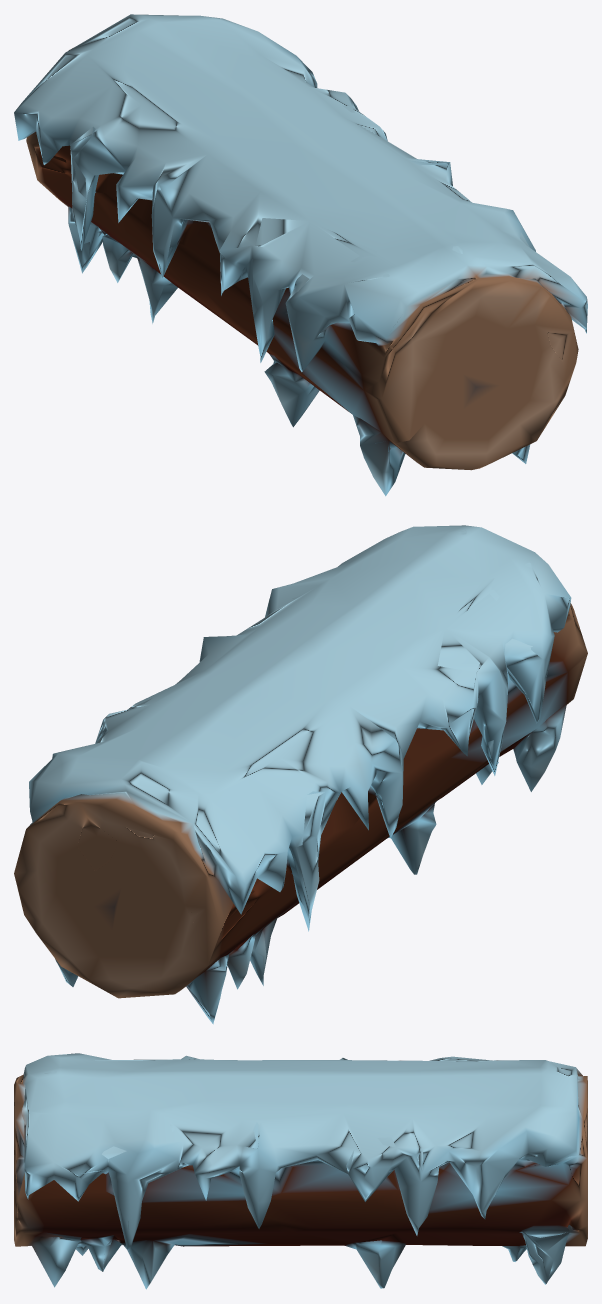
Rendered from gen3d-frozen-log-lod0.glb.
The picture shows the model from 3 angles, top to bottom: view 1: azimuth 30°, elevation 25°; view 2: azimuth 150°, elevation 25°; view 3: azimuth 270°, elevation 25°; orthographic projection. The views are drawn at different scales.
Visible parts, largest first — view 1: part_0; view 2: part_0; view 3: part_0.
Boxes of the visible parts, left/top/right/bottom form: part_0: left=14, top=14, right=587, bottom=496; part_0: left=14, top=525, right=587, bottom=1024; part_0: left=14, top=1053, right=587, bottom=1289.
Bounding box in the file's own units: 1.06 × 1 × 2.62.
